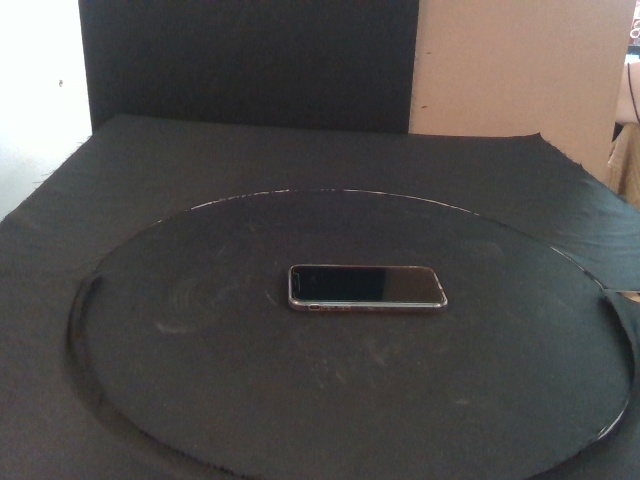phone: (286, 263, 448, 313)
